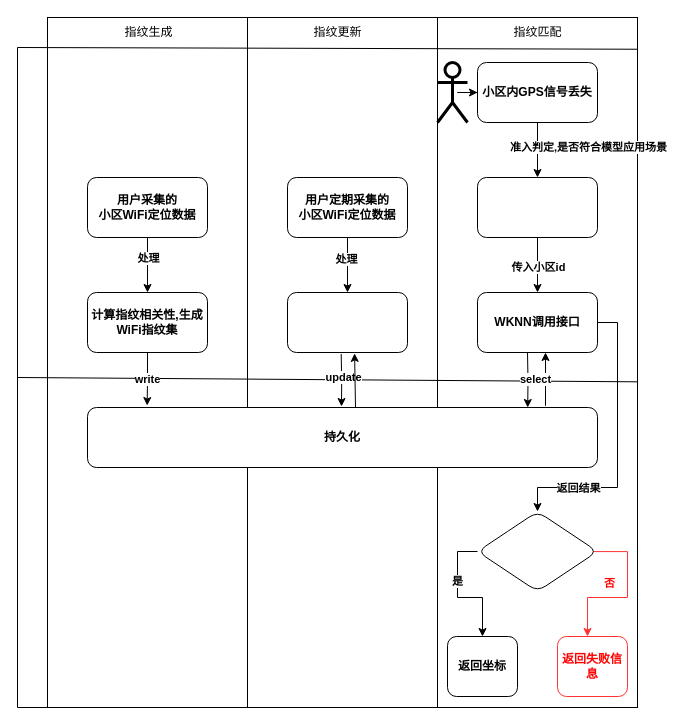
Some shapes in this 684 by 726 pixel diagram are drawn without their labels. Here are the shapes that lost their labels. From the top down, the centre of each, then its label:
pixel 452 92: Actor
pixel 537 207: 确认小区id
pixel 347 322: 计算指纹相关性
pixel 537 551: 输出坐标 是否有效
